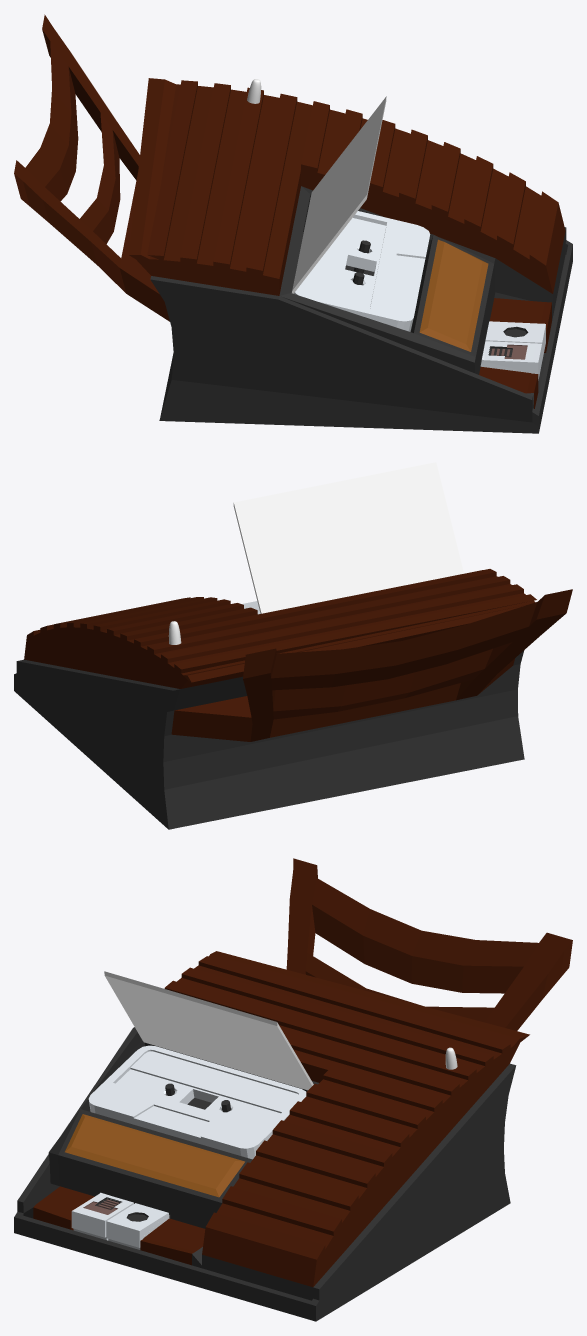
File: telefono.fbx
3 views of the same model, one above another, from view 1: azimuth 30°, elevation 25°; view 2: azimuth 150°, elevation 25°; view 3: azimuth 270°, elevation 25° (orthographic). The views are drawn at different scales.
Parts seen in each view (by area): view 1: telefono, cassette, vidrio telefono, tecla print, tecla record; view 2: telefono, vidrio telefono; view 3: telefono, cassette, vidrio telefono, tecla record, tecla print.
Boxes of the visible parts, left/top/right/bottom form: telefono: left=14, top=14, right=572, bottom=433; cassette: left=294, top=211, right=430, bottom=331; vidrio telefono: left=292, top=96, right=386, bottom=293; tecla print: left=481, top=341, right=541, bottom=380; tecla record: left=485, top=321, right=545, bottom=361; telefono: left=14, top=569, right=572, bottom=829; vidrio telefono: left=233, top=462, right=463, bottom=613; telefono: left=14, top=858, right=572, bottom=1321; cassette: left=88, top=1045, right=306, bottom=1159; vidrio telefono: left=104, top=971, right=313, bottom=1090; tecla record: left=106, top=1203, right=168, bottom=1247; tecla print: left=71, top=1193, right=133, bottom=1237.
Bounding box in the file's own units: 3952 × 1563 × 3724.
